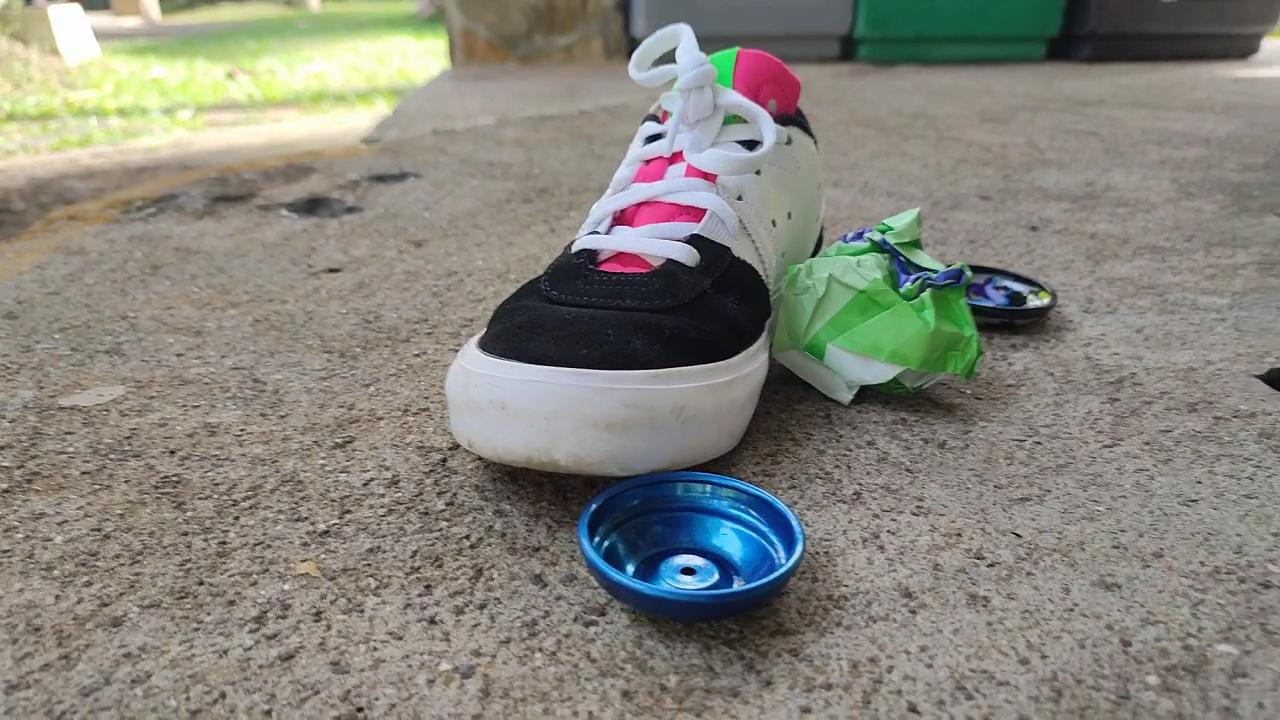Paper: (762, 198, 990, 426)
